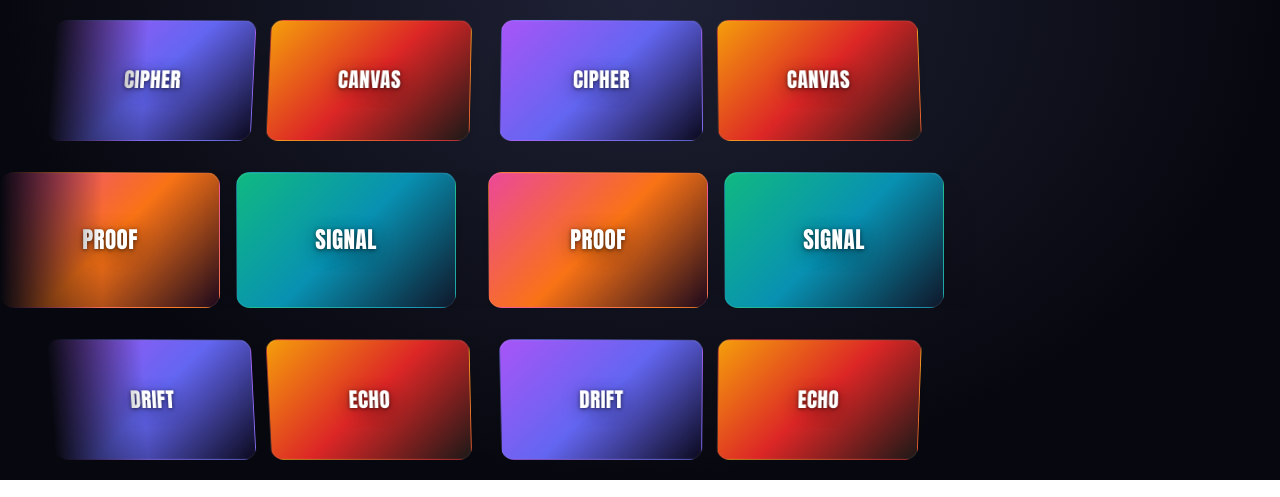
Test: Cardwall component › shows the live "Pinned" readout after a tile click
This screenshot has width=1280, height=497.
Click the 1st button with class "cw-tile": (152, 80) left=47, top=20, right=257, bottom=141
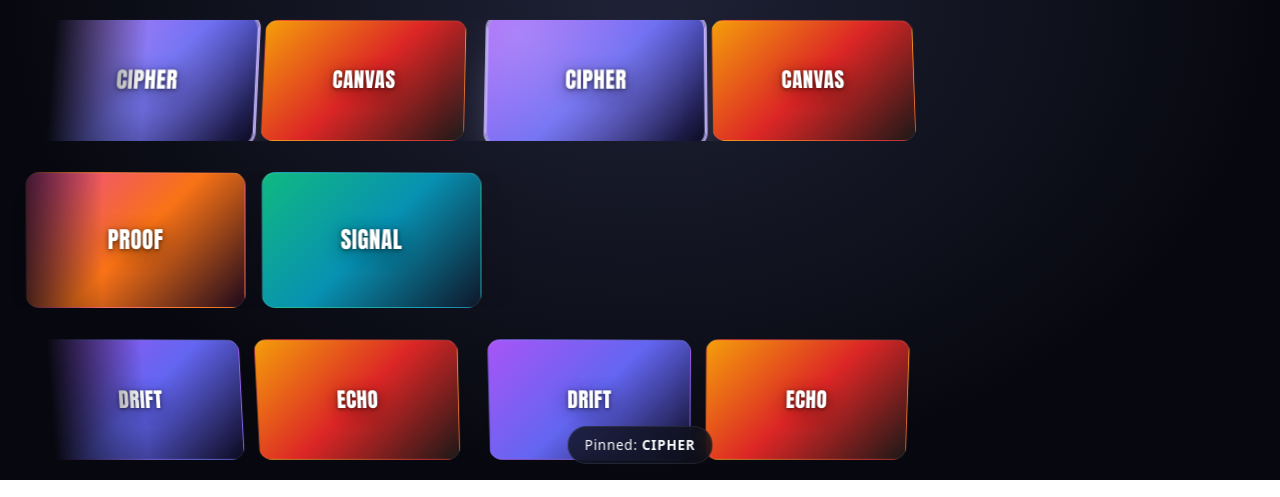
Result: the element with class "cw-pin-readout" is shown at left=568, top=426, right=712, bottom=464
Result: the element with class "cw-pin-readout" shows "Pinned" at left=585, top=435, right=642, bottom=454
